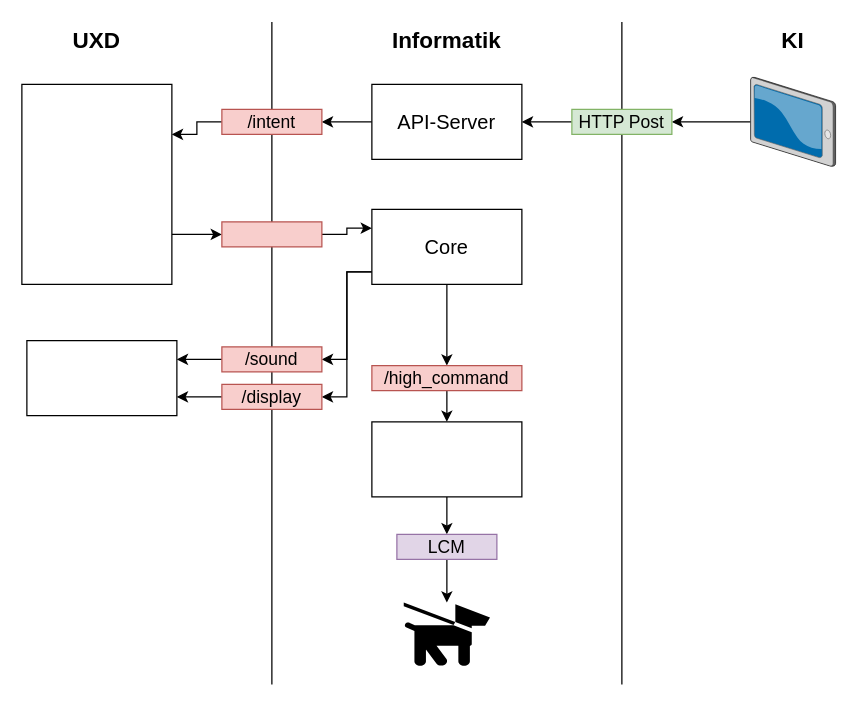
Image size: 858x708. Some labels were removed from this diagram. Here are the shapes that lost their labels. From the top down, the box of each, then its label:
(21, 83, 172, 284): Emotion Controller
(221, 221, 322, 247): /action
(26, 339, 177, 416): Display Controller
(371, 421, 522, 497): ROS-to-A1
